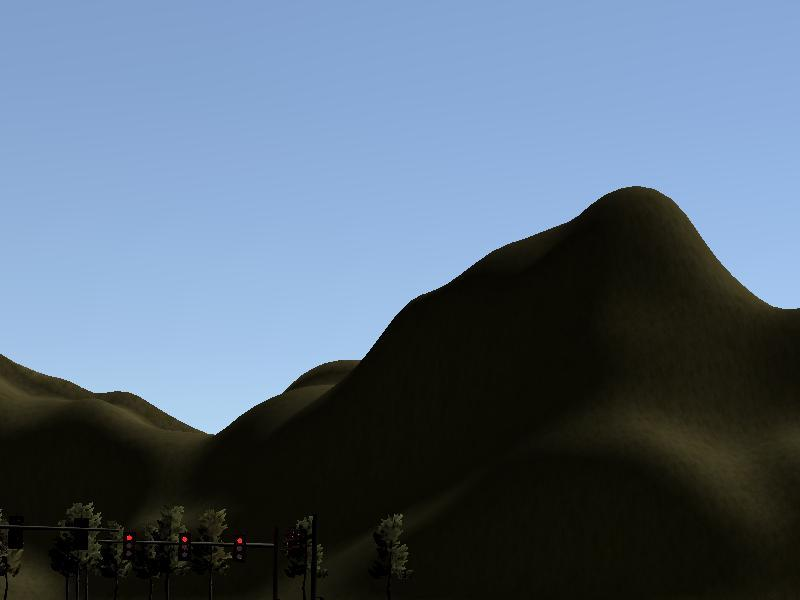Red: (180, 534, 192, 565), (232, 534, 244, 561), (124, 532, 135, 559)
